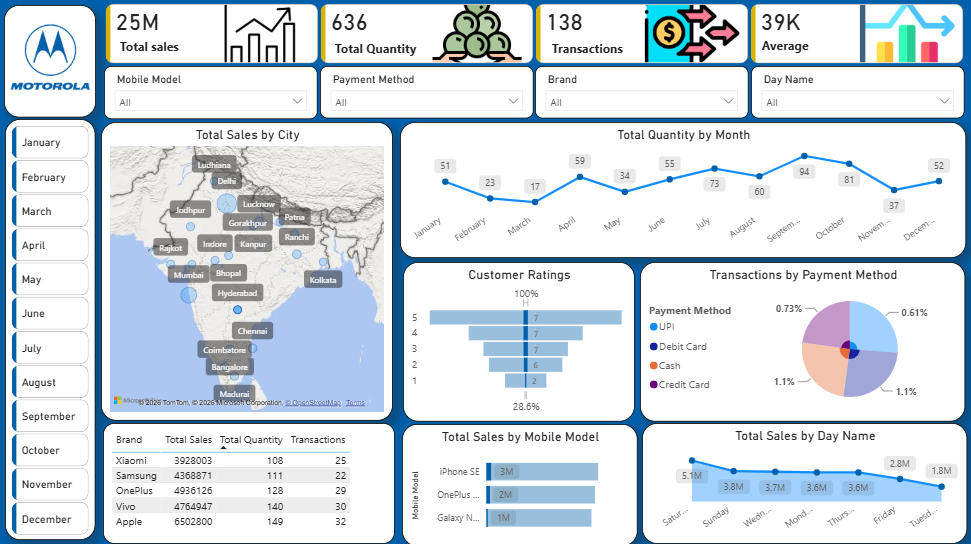

What the dashboard file says about the page in this screenshot:
{"tool":"powerbi","page":{"name":"Page 1","canvas":[1280,720],"ordinal":0},"visuals":[{"type":"shape","box":[5.5,6.9,120.8,148.2],"z":0},{"type":"image","box":[9.6,16.5,113.9,116.6],"z":1000},{"type":"shape","box":[6.9,156.4,119.4,554.4],"z":2000},{"type":"advancedSlicerVisual","fields":{"Values":["Sales_Data.Date.Variation.Date Hierarchy.Month"]},"box":[11,160.5,111.1,548.9],"z":3000},{"type":"cardVisual","fields":{"Data":["Sales_Data.Total Sales","Sales_Data.Total Quantity","Sales_Data.Transactions","Sales_Data.Average"]},"box":[134,5.6,1140.1,83.7],"z":4000},{"type":"map","fields":{"Category":["Sales_Data.City"],"Size":["Sales_Data.Total Sales"]},"box":[132.9,160.8,384.1,393.1],"z":5000},{"type":"lineChart","fields":{"Category":["Sales_Data.Date.Variation.Date Hierarchy.Month","Sales_Data.Date.Variation.Date Hierarchy.Day"],"Y":["Sales_Data.Total Quantity"]},"box":[525.9,160.8,744.8,178.7],"z":6000},{"type":"clusteredBarChart","fields":{"Category":["Sales_Data.Mobile Model"],"Y":["Sales_Data.Total Sales"]},"box":[528.3,558.5,310.1,160.5],"z":7000},{"type":"pieChart","fields":{"Category":["Sales_Data.Payment Method"],"Y":["Sales_Data.Transactions"]},"box":[842.5,344.4,428.1,209.9],"z":8000},{"type":"funnel","title":"Customer Ratings","fields":{"Category":["Sales_Data.Customer Ratings"],"Y":["CountNonNull(Sales_Data.Customer Ratings)"]},"box":[529.7,344.4,304.6,209.9],"z":9000},{"type":"areaChart","fields":{"Category":["Sales_Data.Day Name"],"Y":["Sales_Data.Total Sales"]},"box":[845.3,557.1,428.1,159.2],"z":10000},{"type":"tableEx","fields":{"Values":["Sales_Data.Brand","Sales_Data.Total Sales","Sales_Data.Total Quantity","Sales_Data.Transactions"]},"box":[135.8,557.1,384.2,159.2],"z":11000},{"type":"slicer","fields":{"Values":["Sales_Data.Mobile Model"]},"box":[136.2,87.1,281.4,70.3],"z":12000},{"type":"slicer","fields":{"Values":["Sales_Data.Payment Method"]},"box":[421,87.1,281.4,69.2],"z":13000},{"type":"slicer","fields":{"Values":["Sales_Data.Brand"]},"box":[703.5,87.1,281.4,69.2],"z":14000},{"type":"slicer","fields":{"Values":["Sales_Data.Day Name"]},"box":[988.2,87.1,281.4,69.2],"z":15000},{"type":"textbox","box":[153.1,45.4,97.8,35.4],"z":16000},{"type":"textbox","box":[435.1,46.8,126.1,32.6],"z":17000},{"type":"textbox","box":[721.4,46.8,113.4,34],"z":17001},{"type":"textbox","box":[997.8,43.9,85,35.4],"z":17002}]}

Visuals, with their boxes in screenshot pixels (x1, y1, x2, y2), scaled from the page's 1280x720 canvas onto the 971x544 screenshot:
shape: select_region(4, 5, 96, 117)
image: select_region(7, 12, 94, 101)
shape: select_region(5, 118, 96, 537)
advancedSlicerVisual - Sales_Data.Date.Variation.Date Hierarchy.Month: select_region(8, 121, 93, 536)
cardVisual - Sales_Data.Total Sales x Sales_Data.Total Quantity: select_region(102, 4, 967, 67)
map - Sales_Data.City x Sales_Data.Total Sales: select_region(101, 121, 392, 419)
lineChart - Sales_Data.Date.Variation.Date Hierarchy.Month x Sales_Data.Date.Variation.Date Hierarchy.Day: select_region(399, 121, 964, 257)
clusteredBarChart - Sales_Data.Mobile Model x Sales_Data.Total Sales: select_region(401, 422, 636, 543)
pieChart - Sales_Data.Payment Method x Sales_Data.Transactions: select_region(639, 260, 964, 419)
"Customer Ratings" funnel: select_region(402, 260, 633, 419)
areaChart - Sales_Data.Day Name x Sales_Data.Total Sales: select_region(641, 421, 966, 541)
tableEx - Sales_Data.Brand x Sales_Data.Total Sales: select_region(103, 421, 394, 541)
slicer - Sales_Data.Mobile Model: select_region(103, 66, 317, 119)
slicer - Sales_Data.Payment Method: select_region(319, 66, 533, 118)
slicer - Sales_Data.Brand: select_region(534, 66, 747, 118)
slicer - Sales_Data.Day Name: select_region(750, 66, 963, 118)
textbox: select_region(116, 34, 190, 61)
textbox: select_region(330, 35, 426, 60)
textbox: select_region(547, 35, 633, 61)
textbox: select_region(757, 33, 821, 60)
